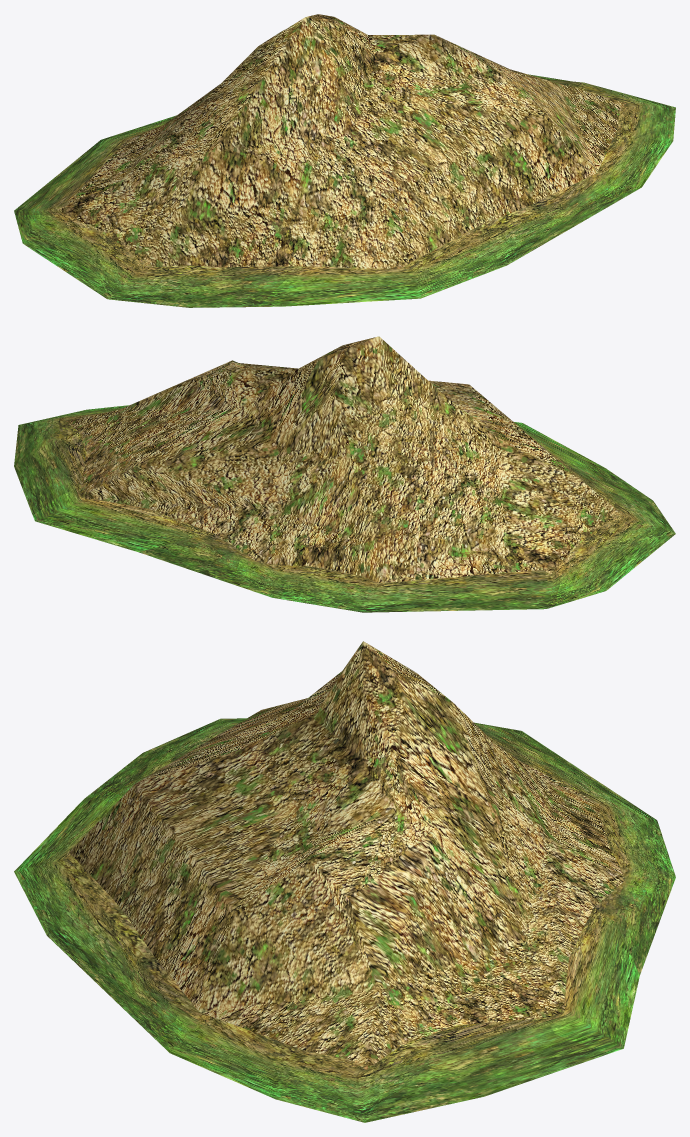
File: hill02.glb
3 views of the same model, one above another, from view 1: azimuth 30°, elevation 25°; view 2: azimuth 150°, elevation 25°; view 3: azimuth 270°, elevation 25° (orthographic). The views are drawn at different scales.
Visible parts, largest first — view 1: hill02-col; view 2: hill02-col; view 3: hill02-col.
Boxes of the visible parts, bbox=[...] form: hill02-col: bbox=[14, 14, 675, 307]; hill02-col: bbox=[14, 336, 675, 612]; hill02-col: bbox=[14, 641, 675, 1122].
Size of the model in its own units: 16.51 by 4.55 by 11.31.
2 materials, 2 textured.
